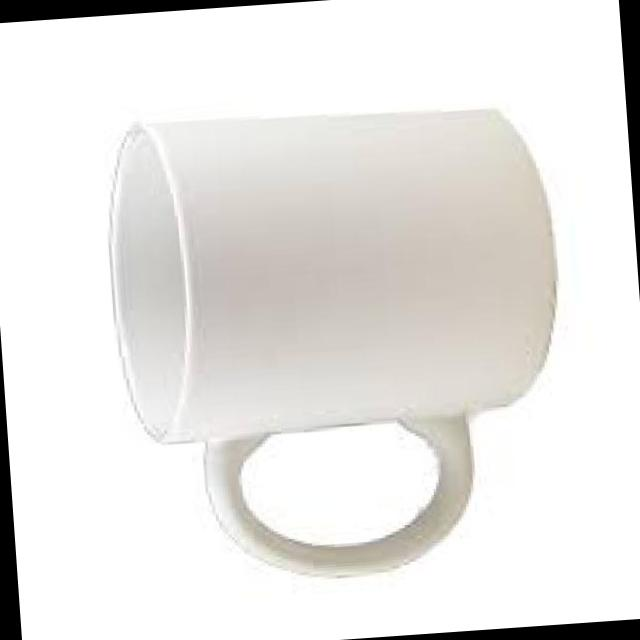Coffee Mug: (101, 91, 574, 586)
